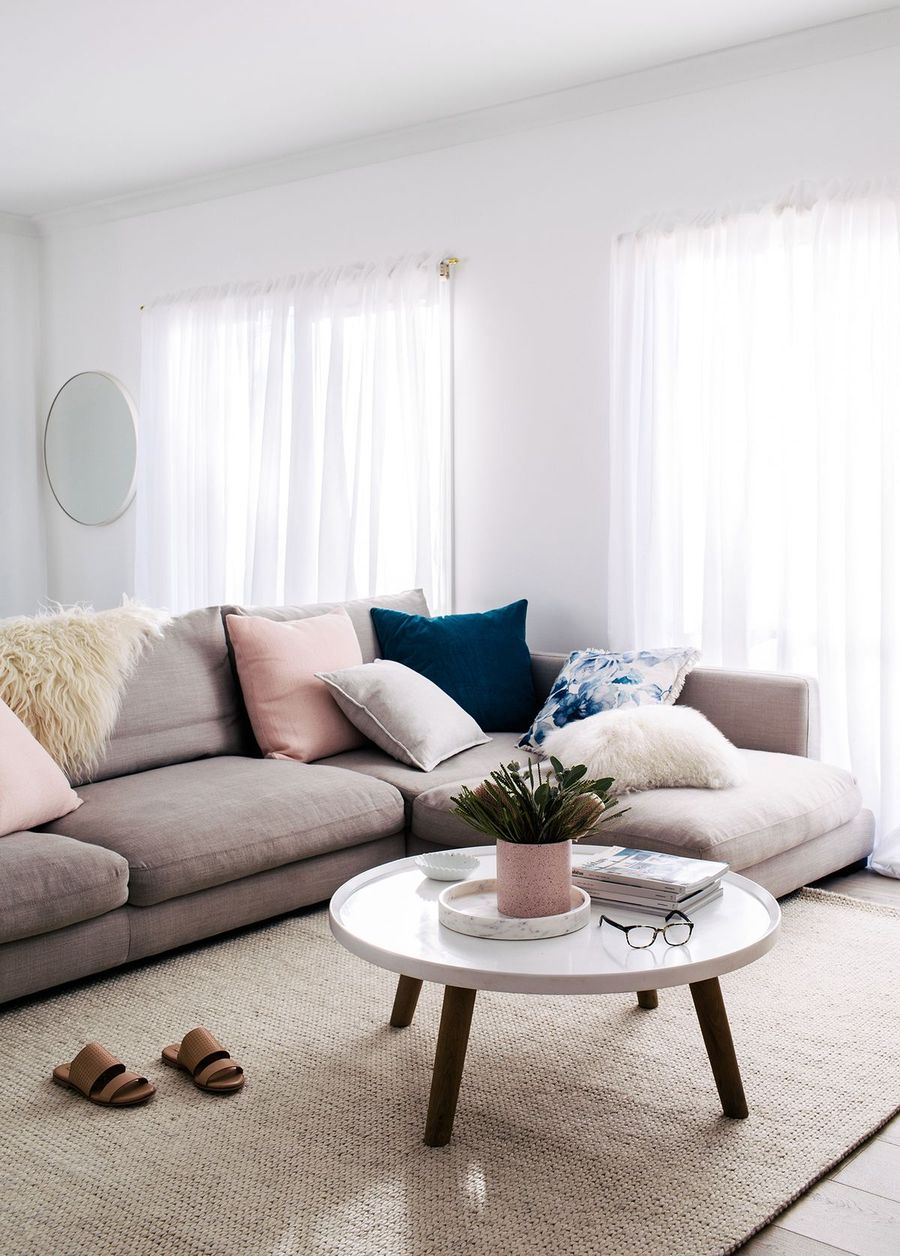coklat: (55, 1045, 157, 1106), (164, 1033, 246, 1096)
hitam: (383, 608, 542, 714)
pink: (230, 618, 366, 741), (4, 703, 79, 821), (495, 840, 576, 912)
putih: (550, 702, 729, 790), (338, 675, 483, 756)
